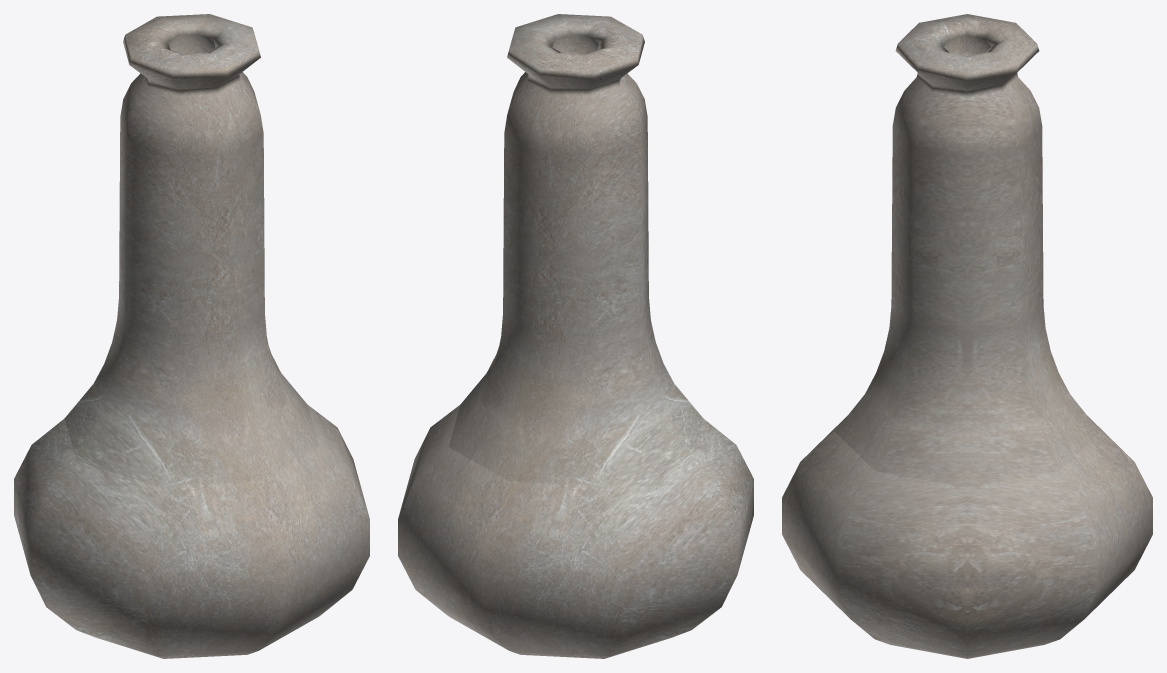
Rendered from TallVase.fbx.
3 renders of one model, left to right at view 1: azimuth 30°, elevation 25°; view 2: azimuth 150°, elevation 25°; view 3: azimuth 270°, elevation 25°, orthographic.
Visible parts, largest first — view 1: TallVase; view 2: TallVase; view 3: TallVase.
Boxes of the visible parts, x1=… form: TallVase: x1=14, y1=14, x2=369, y2=658; TallVase: x1=398, y1=14, x2=753, y2=658; TallVase: x1=782, y1=14, x2=1152, y2=658.
Bounding box in the file's own units: 87.39 × 151 × 87.39.
